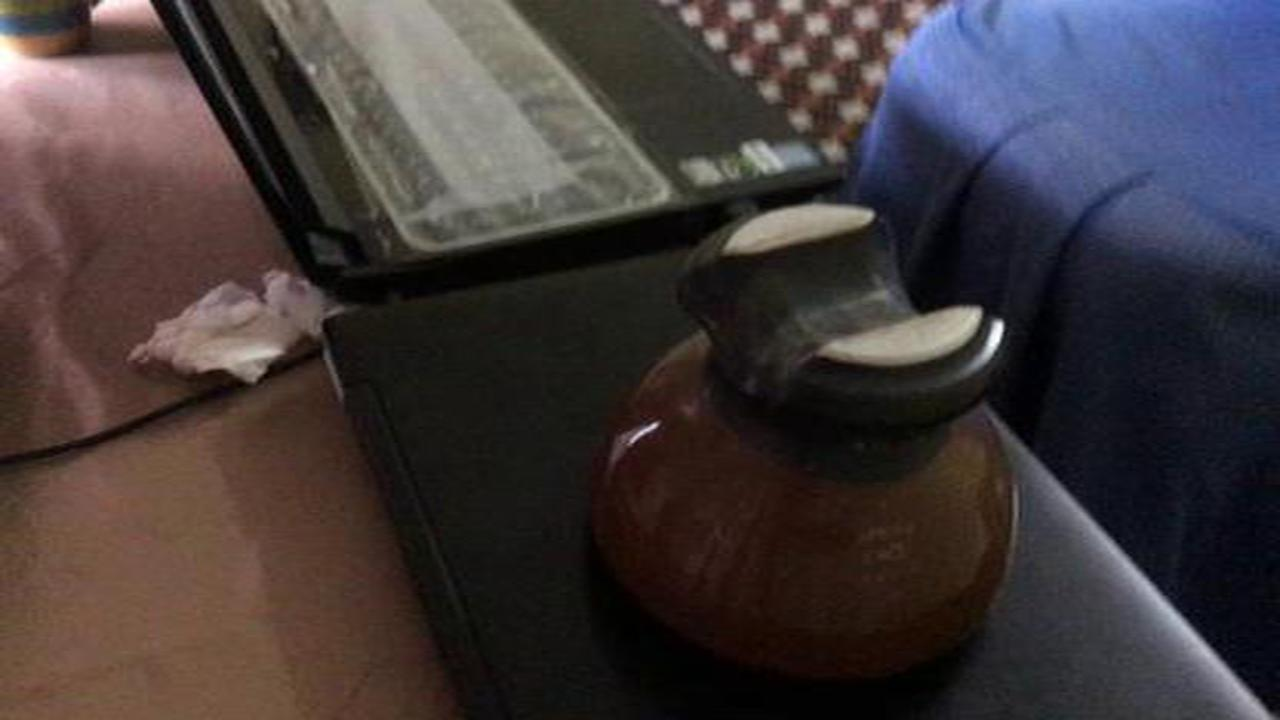insulator_pin: (561, 187, 1041, 688)
